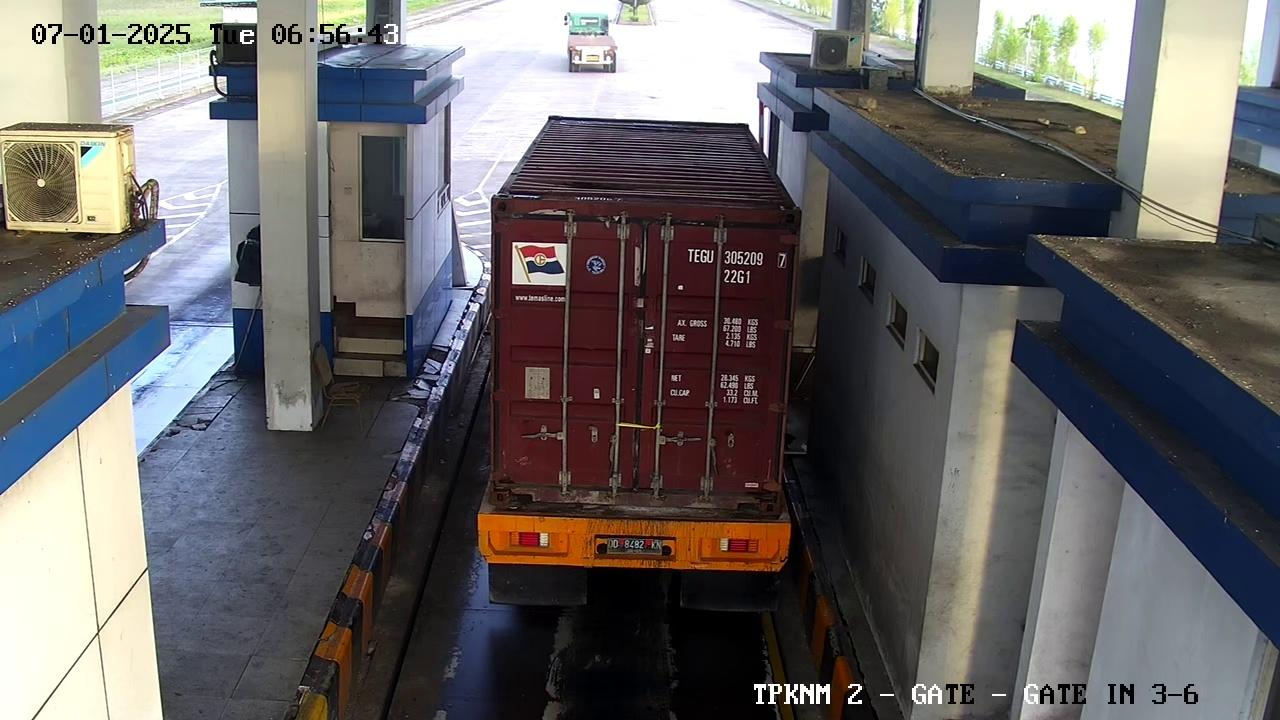Container_ID: (676, 240, 796, 272)
plate_number: (596, 535, 679, 563)
